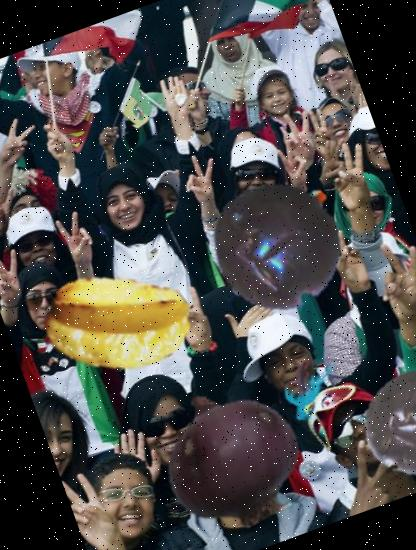Carambula: (25, 232, 210, 416)
Onion: (138, 363, 322, 548)
Passion: (192, 156, 364, 328), (348, 349, 416, 494)
